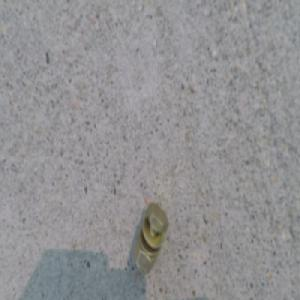BoltNutSet: (131, 200, 164, 272)
